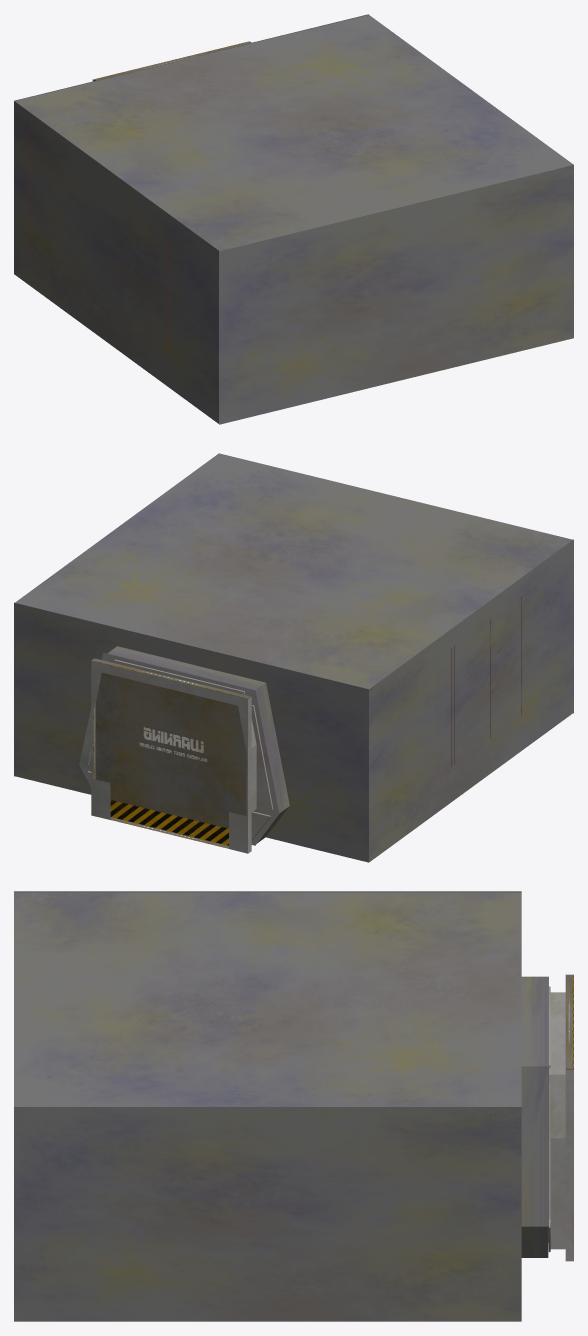
File: AntonPhibes5.FBX
3 views of the same model, one above another, from view 1: azimuth 30°, elevation 25°; view 2: azimuth 150°, elevation 25°; view 3: azimuth 270°, elevation 25° (orthographic). The views are drawn at different scales.
Parts seen in each view (by area): view 1: Plane07, Plane02, Room; view 2: Room, Plane07, DoorInner4, BulkheadInner4; view 3: Plane03, Plane07, Room, BulkheadInner4, DoorInner4.
Part boxes in pixels (x1=…): Plane07: x1=15, y1=15, x2=573, y2=251; Plane02: x1=219, y1=165, x2=573, y2=424; Room: x1=14, y1=14, x2=368, y2=423; Room: x1=14, y1=539, x2=573, y2=862; Plane07: x1=15, y1=453, x2=572, y2=689; DoorInner4: x1=93, y1=658, x2=249, y2=848; BulkheadInner4: x1=79, y1=653, x2=279, y2=853; Plane03: x1=14, y1=1107, x2=521, y2=1321; Plane07: x1=14, y1=892, x2=521, y2=1106; Room: x1=14, y1=891, x2=548, y2=1257; BulkheadInner4: x1=548, y1=974, x2=573, y2=1261; DoorInner4: x1=566, y1=975, x2=573, y2=1069.
Bounding box in the file's own units: 600 × 662 × 281.
6 materials, 6 textured.
